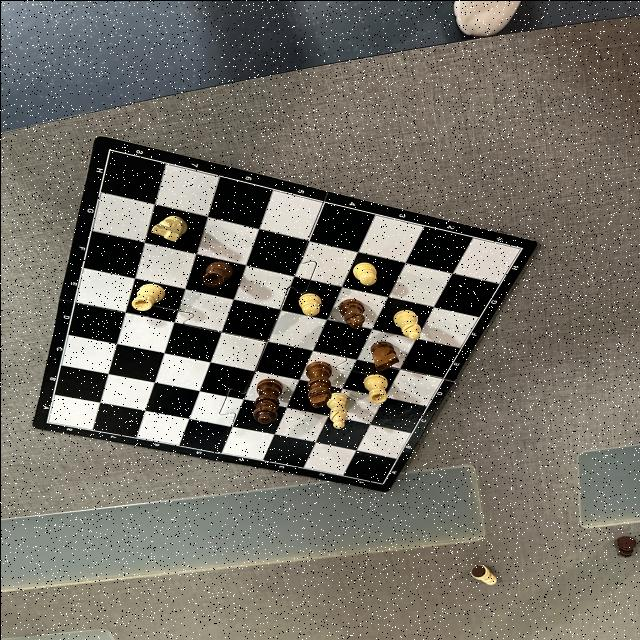Black-Bishop: (338, 298, 364, 328)
Black-King: (304, 360, 332, 408)
Black-Knight: (368, 340, 398, 370)
Black-Queen: (252, 378, 282, 423)
Black-Rook: (201, 260, 232, 286)
White-Bishop: (325, 392, 349, 428), (392, 309, 420, 339)
White-Knight: (149, 214, 187, 240)
White-Pawn: (297, 292, 321, 316), (352, 261, 376, 285)
White-Rook: (130, 282, 164, 310), (363, 373, 387, 403)
